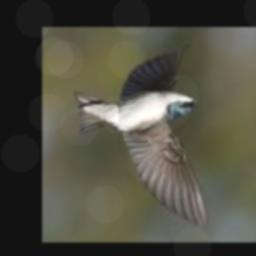Swallow: (75, 45, 210, 229)
